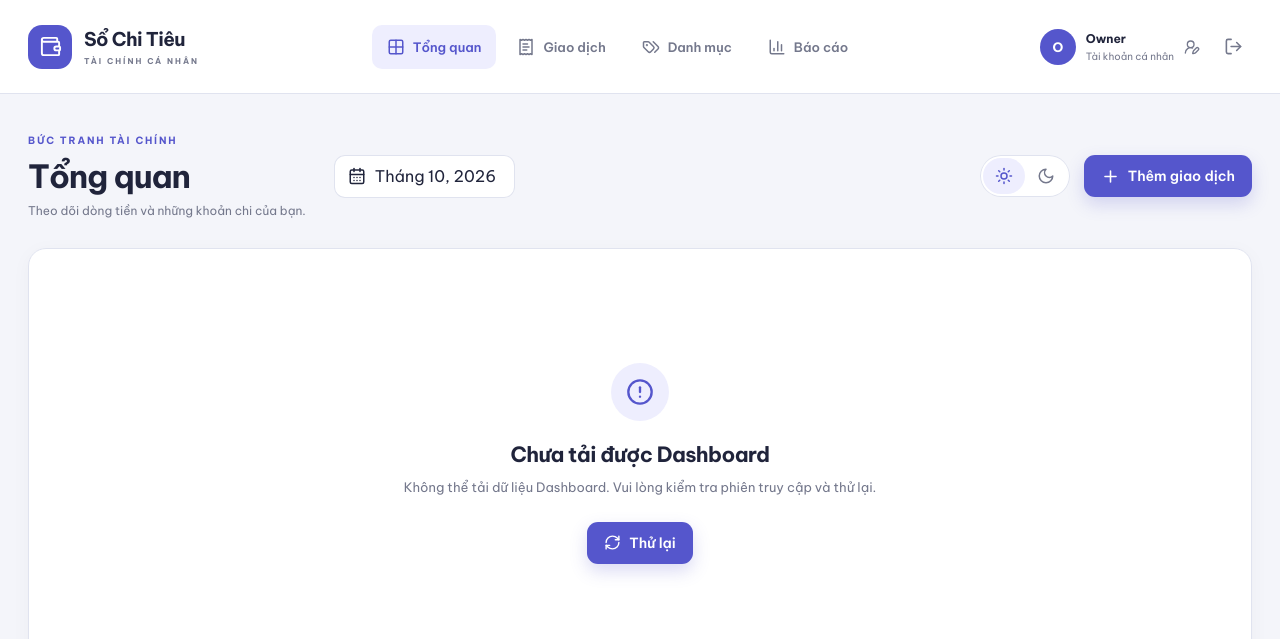
Test: application route smoke tests › shows and retries dashboard load errors
Expected: the text "Không thể tải dữ liệu Dashboard" is shown, [404,479,876,495]
Click the button "Thử lại" at (640, 543), box [587,522,693,564]
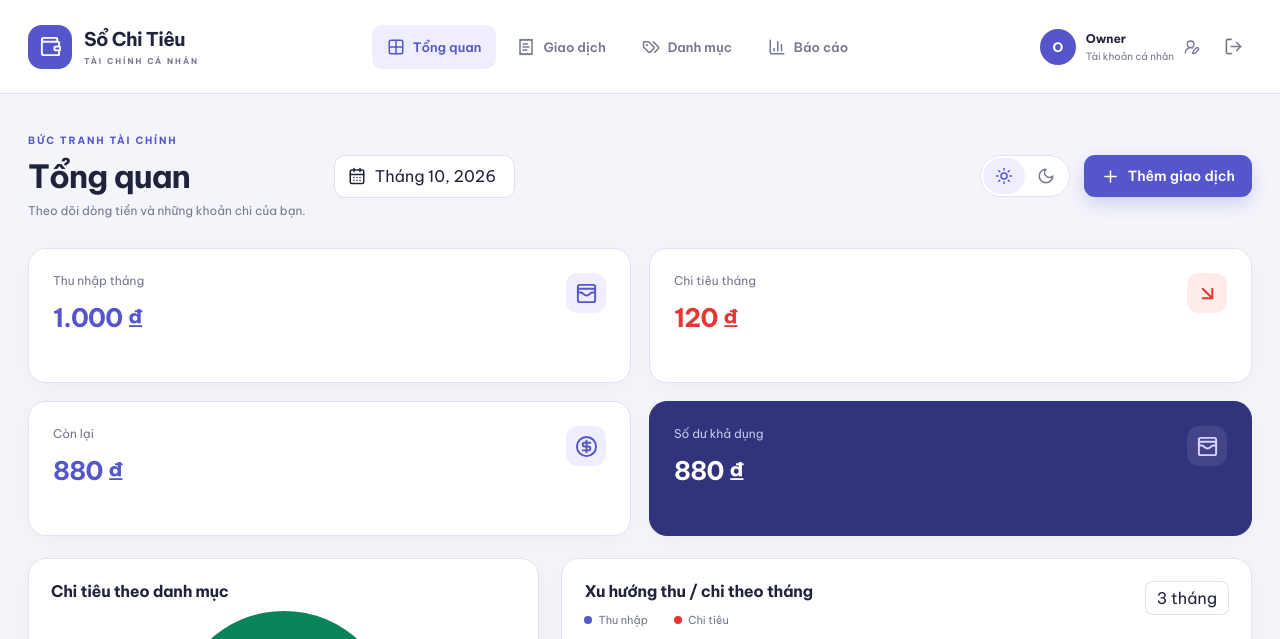
Now the text "Không thể tải dữ liệu Dashboard" is gone
